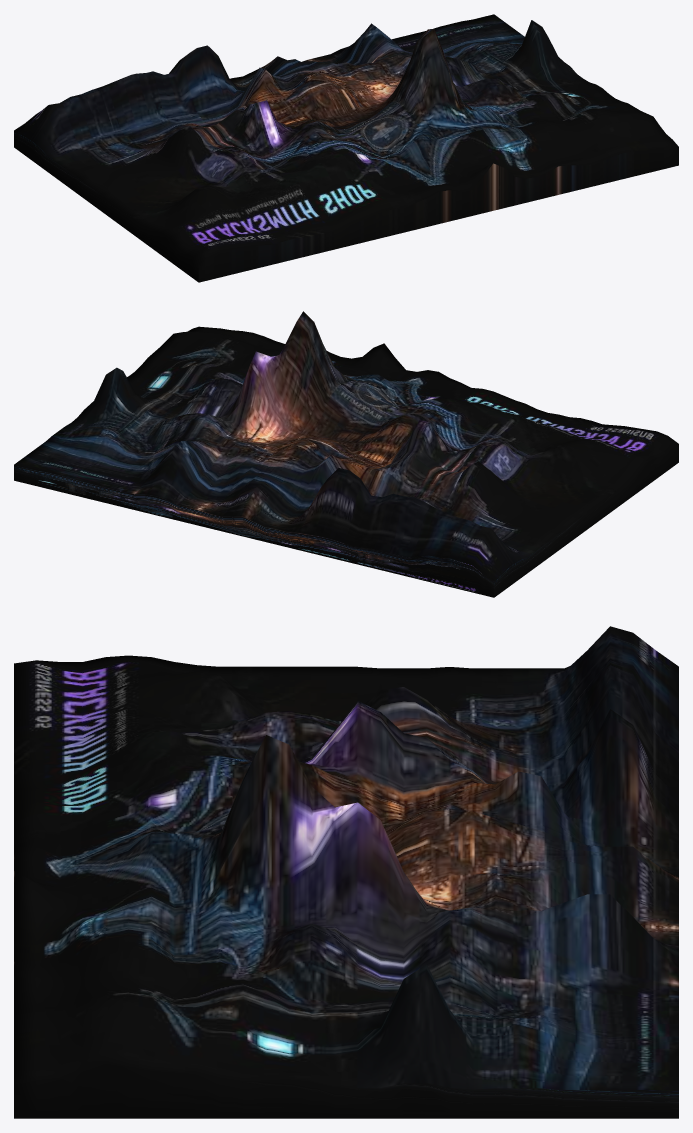
Rendered from BUSINESS_05_Blacksmith_Shop.glb.
The picture shows the model from 3 angles, top to bottom: view 1: azimuth 30°, elevation 25°; view 2: azimuth 150°, elevation 25°; view 3: azimuth 270°, elevation 25°; orthographic projection. The views are drawn at different scales.
Visible parts, largest first — view 1: BUSINESS_05_Blacksmith_Shop; view 2: BUSINESS_05_Blacksmith_Shop; view 3: BUSINESS_05_Blacksmith_Shop.
Boxes of the visible parts, box(x1,y1,x2,y2) form: BUSINESS_05_Blacksmith_Shop: box(14, 14, 678, 282); BUSINESS_05_Blacksmith_Shop: box(14, 311, 678, 597); BUSINESS_05_Blacksmith_Shop: box(14, 626, 678, 1118).
Bounding box in the file's own units: 2 × 0.51 × 1.33.
1 material, 1 textured.
